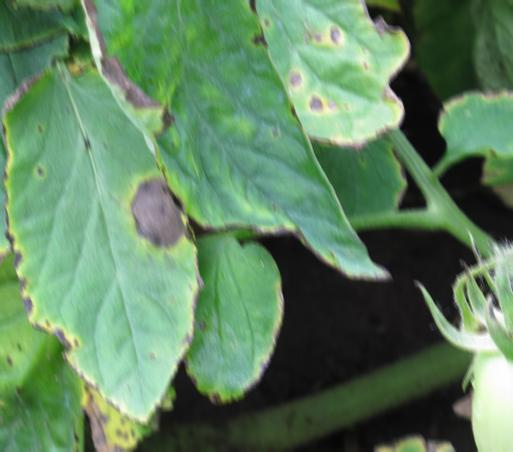Tomato Early blight leaf: (48, 0, 412, 269), (0, 61, 211, 406), (0, 270, 108, 452)
